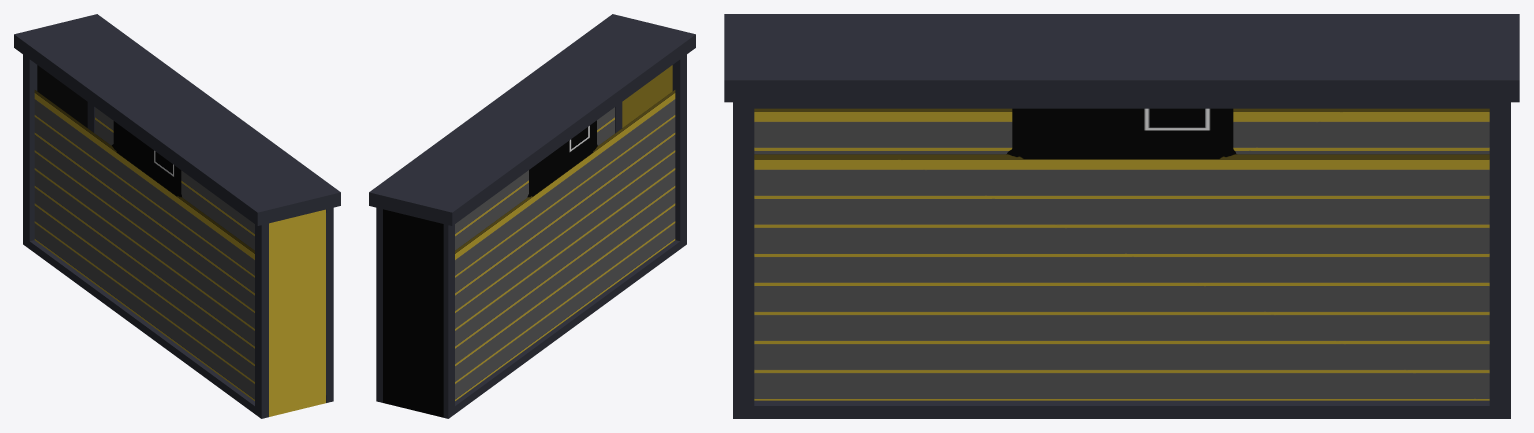
File: house 3.fbx
3 views of the same model, side by side, from view 1: azimuth 30°, elevation 25°; view 2: azimuth 150°, elevation 25°; view 3: azimuth 270°, elevation 25° (orthographic). The views are drawn at different scales.
Parts seen in each view (by area): view 1: Cube.007; view 2: Cube.007; view 3: Cube.007.
Part boxes in pixels (box(x1,y1,x2,y2)): Cube.007: box(14, 14, 340, 418); Cube.007: box(369, 14, 695, 418); Cube.007: box(724, 14, 1519, 418).
Bounding box in the file's own units: 220 × 529 × 1114.
